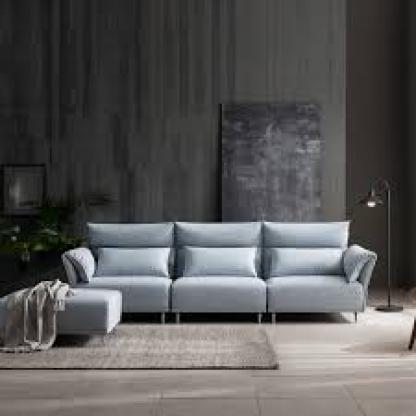sofa: (61, 222, 383, 327)
